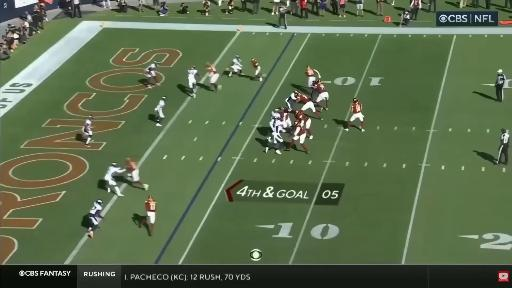Helmet: (147, 194, 153, 201), (294, 110, 300, 116), (111, 162, 118, 167), (352, 99, 358, 104), (97, 200, 103, 205), (162, 96, 167, 101), (294, 90, 299, 95), (294, 121, 299, 126), (154, 61, 158, 66), (191, 66, 196, 70), (127, 157, 131, 162), (251, 58, 255, 62), (306, 66, 310, 70), (273, 116, 278, 119), (90, 116, 93, 120), (236, 56, 239, 60), (318, 80, 321, 84), (298, 94, 301, 97), (207, 62, 209, 65)
Jersey: (269, 119, 285, 134), (106, 166, 124, 178), (89, 202, 102, 216), (296, 112, 309, 126), (294, 122, 305, 136), (280, 107, 292, 119), (145, 200, 156, 211), (297, 95, 310, 104), (126, 161, 137, 171), (155, 99, 165, 110), (351, 103, 361, 113), (316, 82, 325, 93), (188, 69, 197, 79), (84, 119, 91, 131), (272, 110, 281, 119), (287, 93, 296, 101), (232, 58, 241, 66), (147, 64, 156, 72), (207, 66, 217, 73), (306, 68, 314, 76), (252, 59, 258, 68)
Player: (126, 158, 148, 190), (287, 121, 309, 153), (104, 163, 125, 196), (139, 196, 156, 235), (296, 94, 322, 119), (345, 98, 364, 131), (87, 199, 103, 238), (295, 111, 313, 139), (206, 63, 221, 92), (264, 132, 283, 154), (154, 96, 167, 127), (315, 80, 328, 110), (188, 66, 200, 97), (146, 62, 160, 88), (305, 66, 321, 88), (82, 115, 93, 146), (276, 108, 292, 128), (229, 55, 243, 77), (251, 58, 262, 81), (286, 91, 300, 109), (270, 117, 285, 133)
